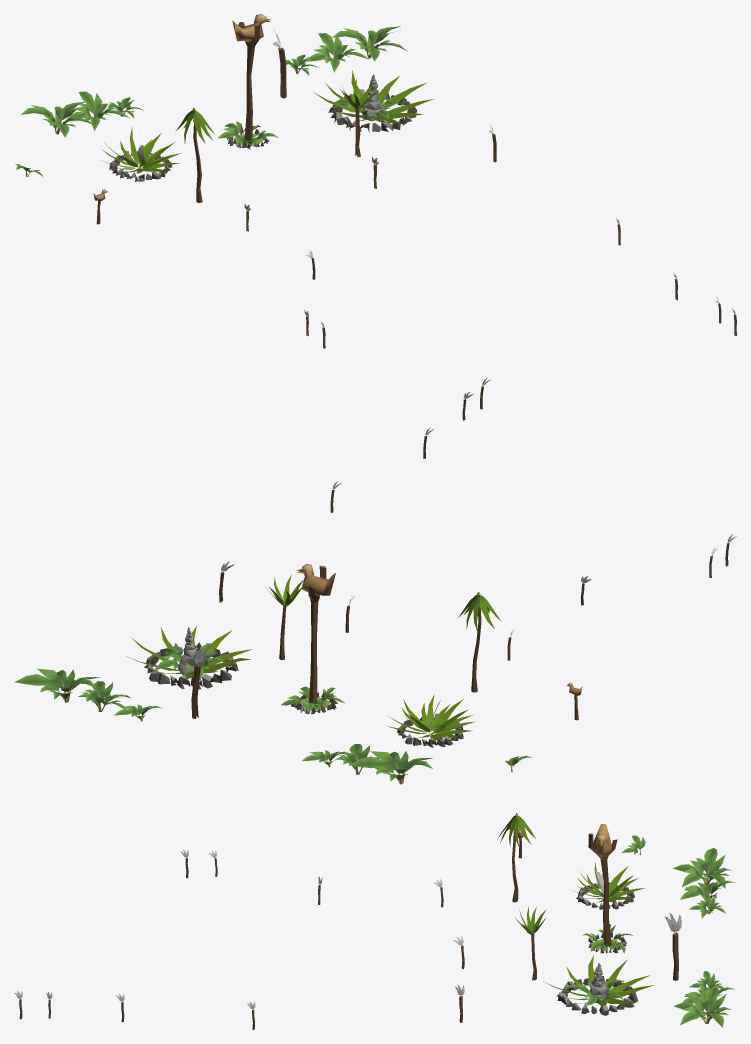
3 renders of one model, top to bottom at view 1: azimuth 30°, elevation 25°; view 2: azimuth 150°, elevation 25°; view 3: azimuth 270°, elevation 25°, orthographic. The views are drawn at different scales.
Visible parts, largest first — view 1: nestStage_24; view 2: nestStage_24; view 3: nestStage_24.
Part boxes in pixels (<box>): nestStage_24: <box>15,14,736,348</box>; nestStage_24: <box>14,377,736,784</box>; nestStage_24: <box>14,813,736,1029</box>.
Bounding box in the file's own units: 15.92 × 4.6 × 25.15.
